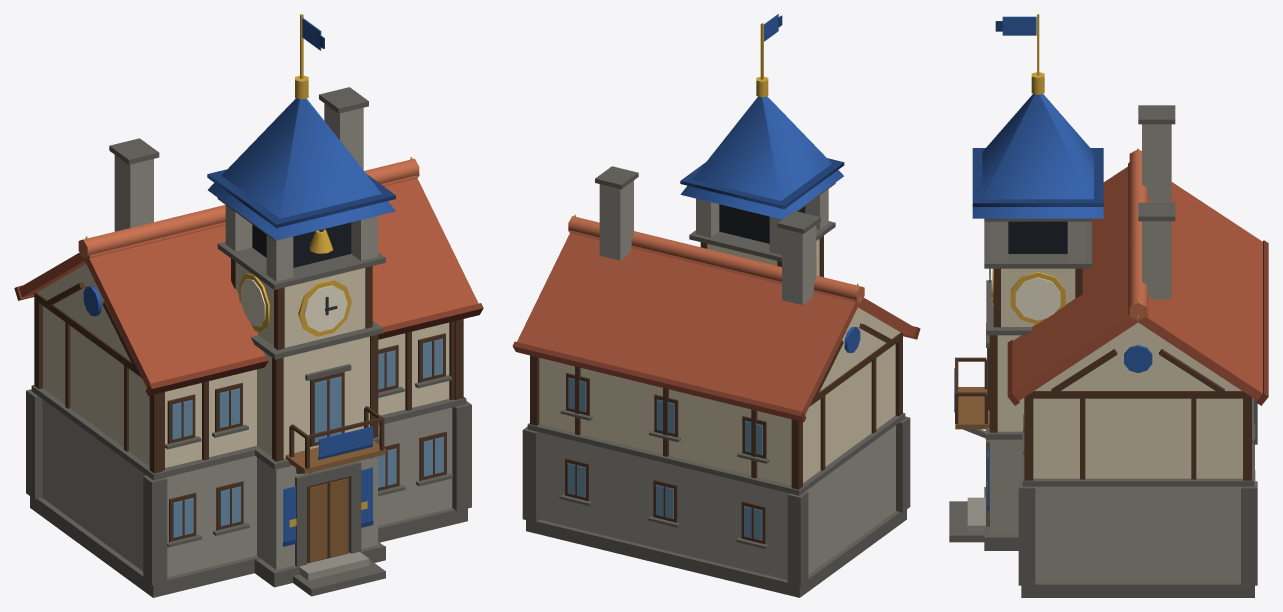
File: town-hall.glb
The picture shows the model from 3 angles, left to right: view 1: azimuth 30°, elevation 25°; view 2: azimuth 150°, elevation 25°; view 3: azimuth 270°, elevation 25°; orthographic projection. The views are drawn at different scales.
Parts seen in each view (by area): view 1: town-hall; view 2: town-hall; view 3: town-hall.
Boxes of the visible parts, left/top/right/bottom form: town-hall: left=14, top=14, right=483, bottom=597; town-hall: left=512, top=14, right=920, bottom=597; town-hall: left=949, top=14, right=1268, bottom=597.
Size of the model in its own units: 9.84 by 15.2 by 8.62.
Materials: 1 (1 with a texture image).
